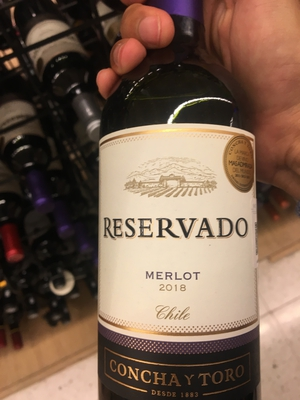reservado merlot: (84, 25, 274, 386)
